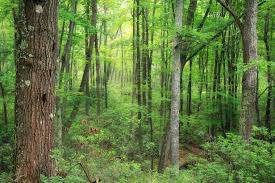forest: (4, 4, 272, 180)
tree: (6, 5, 80, 177), (126, 1, 200, 172), (201, 1, 275, 172)
